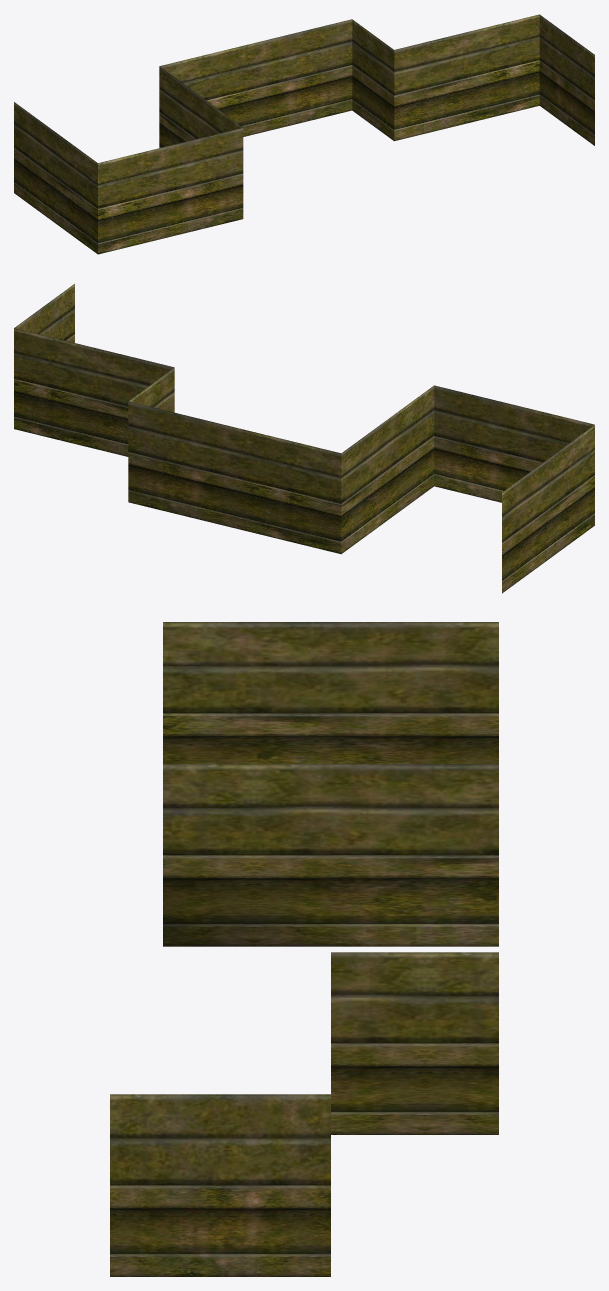
File: OVERHILL_A_01_LINE164.fbx
The picture shows the model from 3 angles, top to bottom: view 1: azimuth 30°, elevation 25°; view 2: azimuth 150°, elevation 25°; view 3: azimuth 270°, elevation 25°; orthographic projection. The views are drawn at different scales.
Visible parts, largest first — view 1: OVERHILL_A_01_LINE164; view 2: OVERHILL_A_01_LINE164; view 3: OVERHILL_A_01_LINE164.
Boxes of the visible parts, x1,y1,x2,y2 form: OVERHILL_A_01_LINE164: [14, 14, 594, 254]; OVERHILL_A_01_LINE164: [14, 284, 594, 593]; OVERHILL_A_01_LINE164: [110, 622, 498, 1276].
Size of the model in its own units: 66493 by 12000 by 23165.
Materials: 2 (2 with a texture image).
